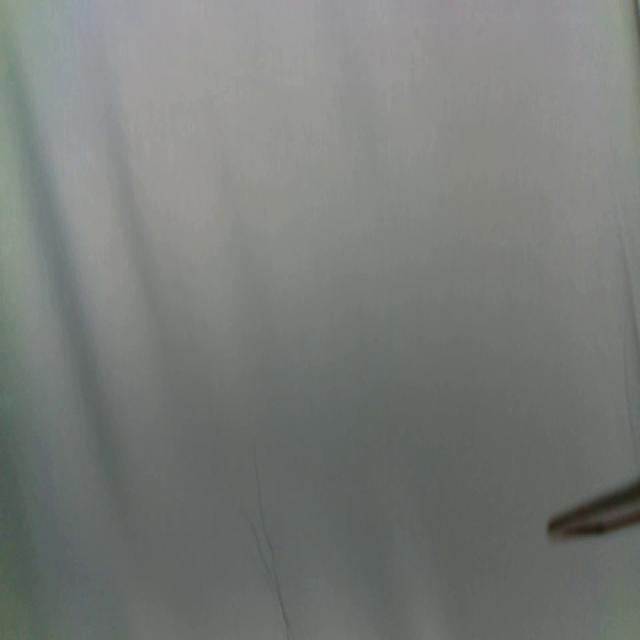crease: (246, 446, 290, 630), (621, 342, 640, 468)
